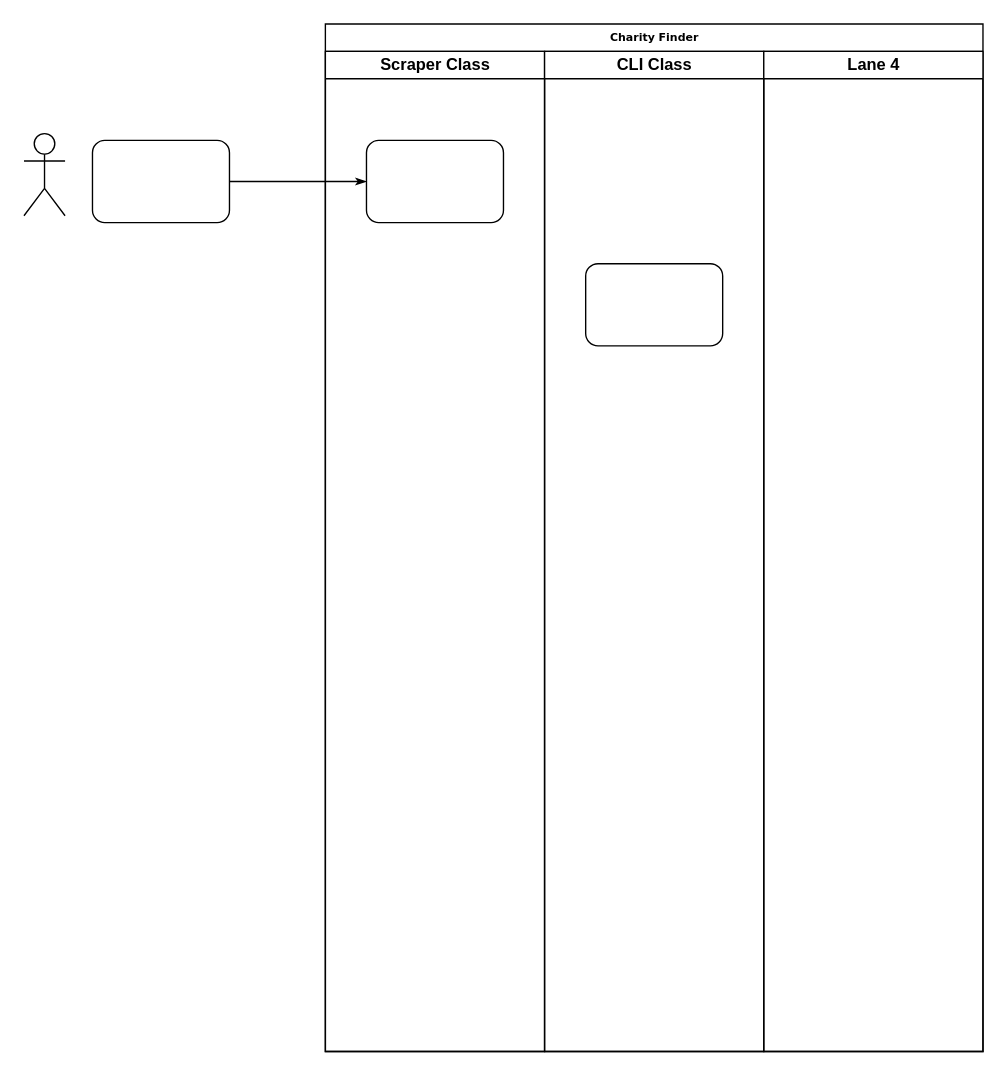
The diagram is 1007 pixels wide and 1075 high, and some of its shapes have lost their labels. The shapes that lost their labels are listed below. From the top down, each one's centre as x and y in pixels, then its label:
At (x=44, y=174): "User".
At (x=160, y=181): "User starts the app".
